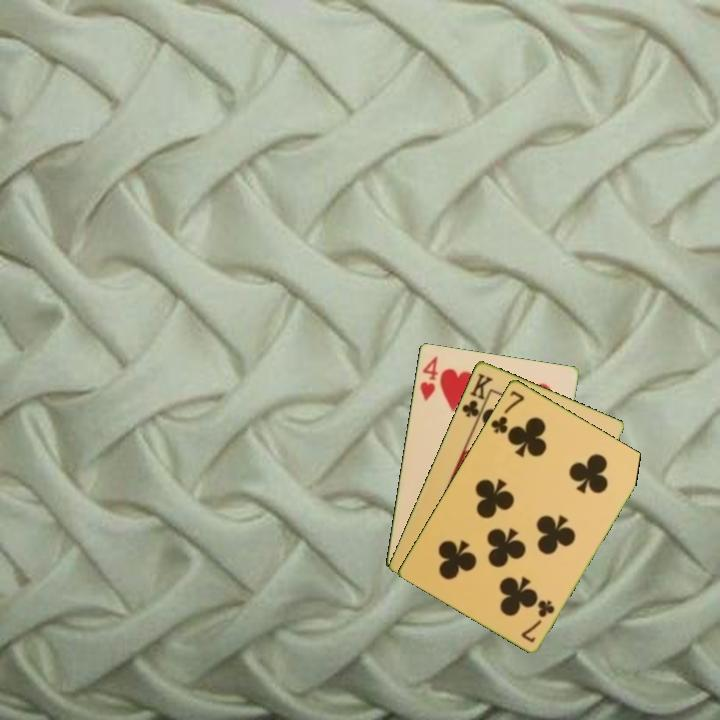4h: (416, 352, 441, 404)
7c: (487, 387, 527, 436), (517, 596, 557, 645)
Kc: (458, 369, 495, 425)
